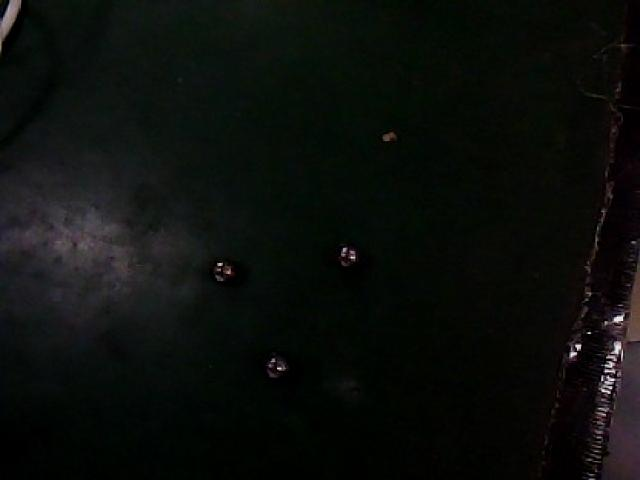steel-ball: (246, 342, 302, 402), (201, 240, 257, 298), (323, 226, 374, 285)
